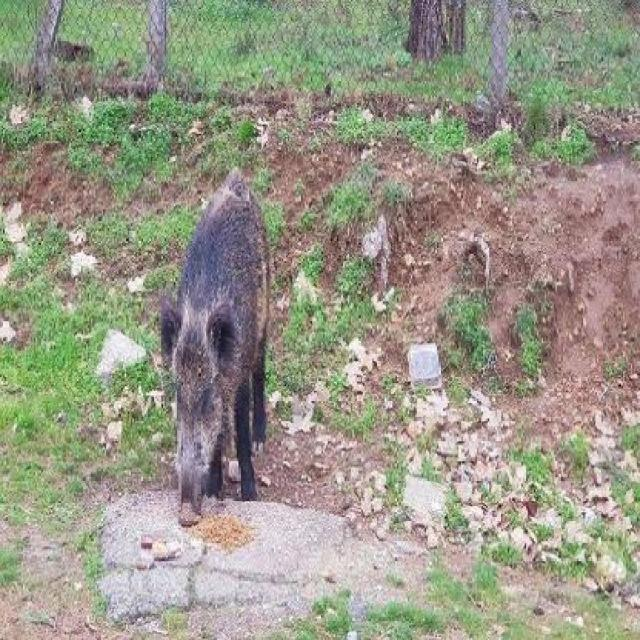wildboar: (152, 161, 276, 550)
